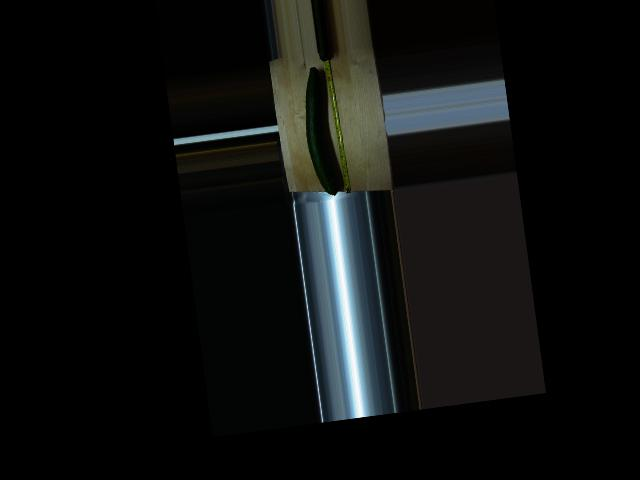cucumber: (298, 65, 340, 197)
